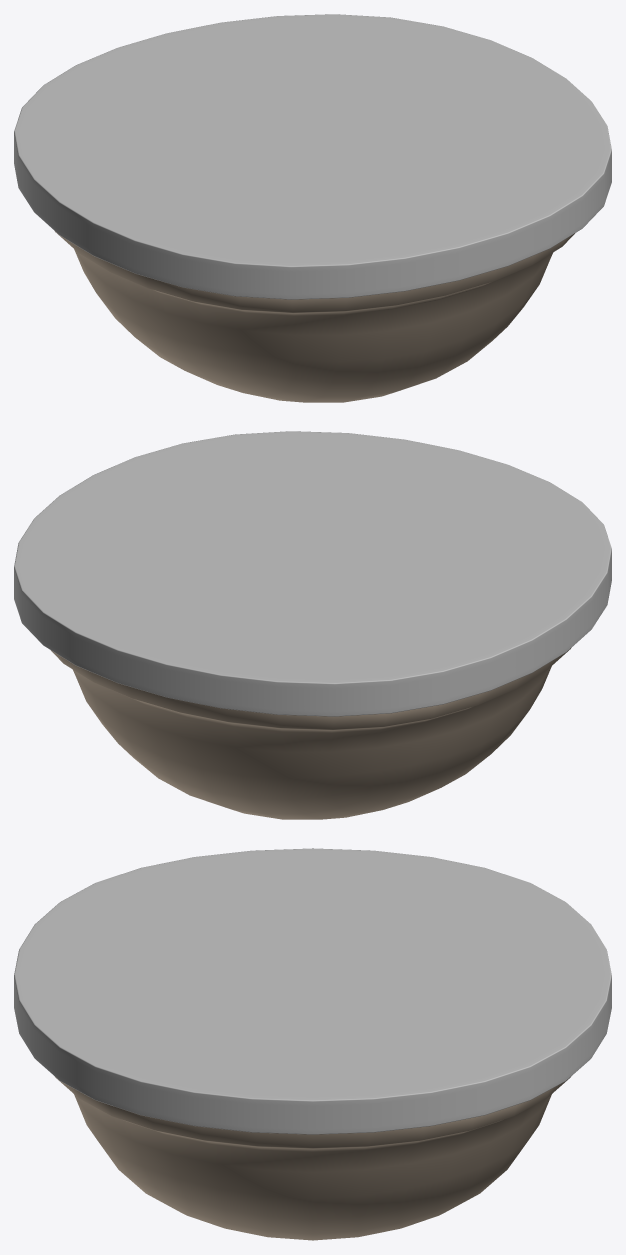
File: ceiling titty.fbx
3 views of the same model, one above another, from view 1: azimuth 30°, elevation 25°; view 2: azimuth 150°, elevation 25°; view 3: azimuth 270°, elevation 25° (orthographic). The views are drawn at different scales.
Parts seen in each view (by area): view 1: polySurface2, ceilingTittyTri; view 2: polySurface2, ceilingTittyTri; view 3: polySurface2, ceilingTittyTri.
Part boxes in pixels (box(x1,y1,x2,y2)): polySurface2: box(14, 14, 611, 299); ceilingTittyTri: box(55, 231, 574, 402); polySurface2: box(14, 431, 611, 716); ceilingTittyTri: box(51, 648, 570, 819); polySurface2: box(14, 848, 611, 1134); ceilingTittyTri: box(55, 1077, 570, 1240).
Bounding box in the file's own units: 32.72 × 15.57 × 32.72.
